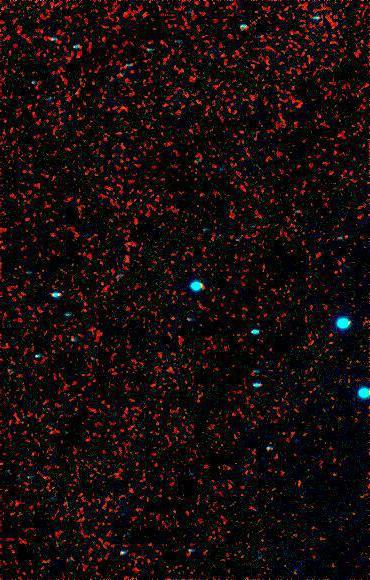star: (159, 305, 189, 335)
